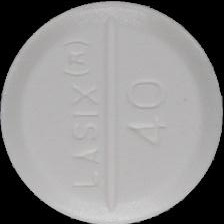0039-0060: (0, 0, 224, 224)
